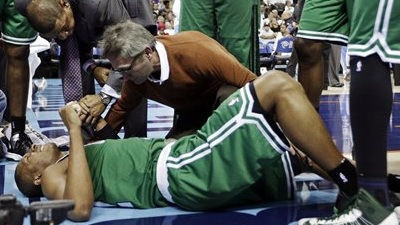falling: (7, 73, 388, 218)
